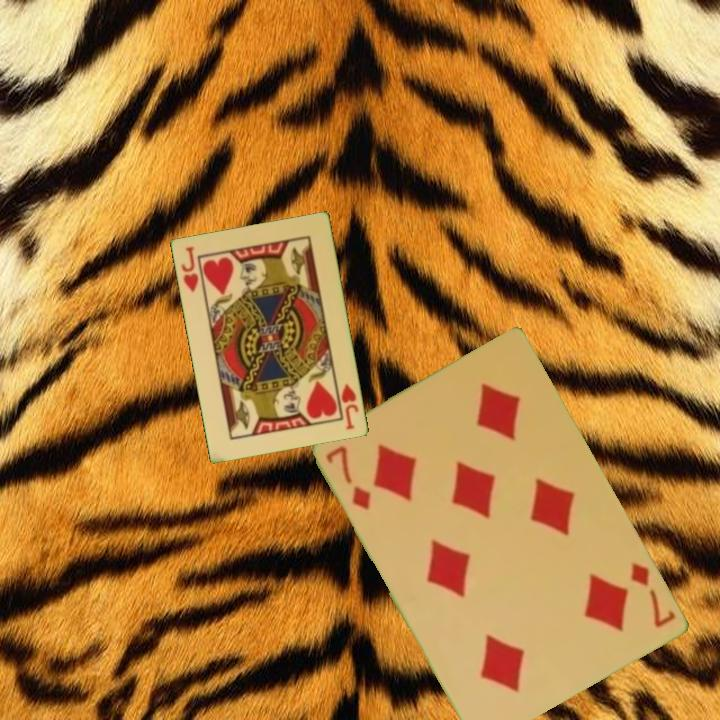7d: (627, 559, 679, 631), (323, 442, 375, 514)
Jh: (333, 378, 362, 433), (178, 243, 202, 296)
